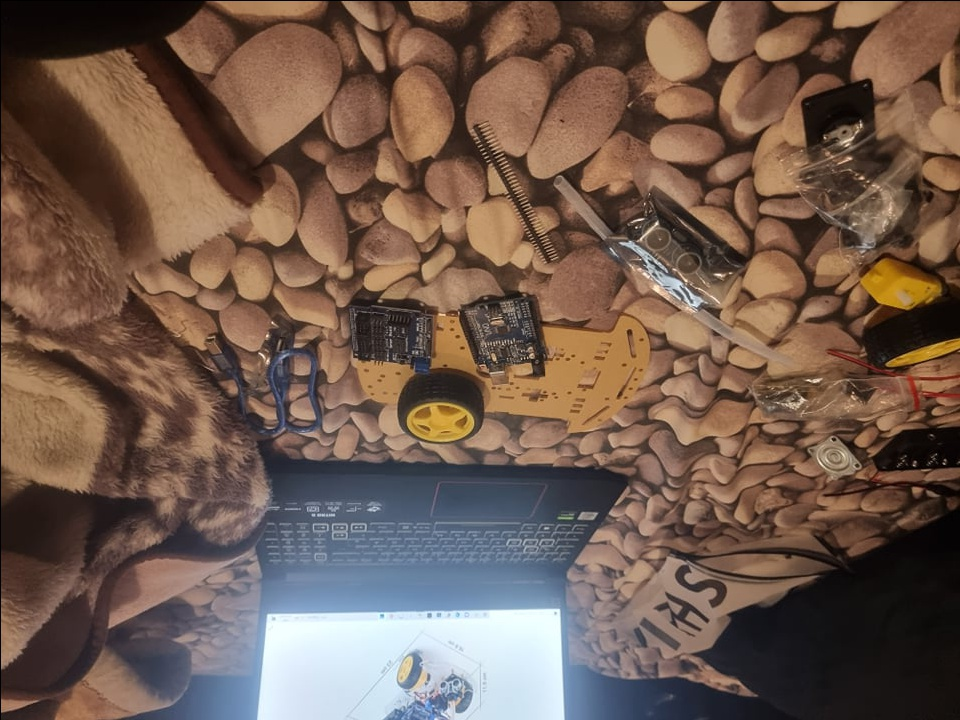5V EXPANSION: (347, 298, 435, 374)
BATTERY BOX: (874, 428, 959, 474)
SENSOR: (640, 215, 701, 278), (437, 677, 461, 692)
UNO R3: (457, 294, 544, 385)
